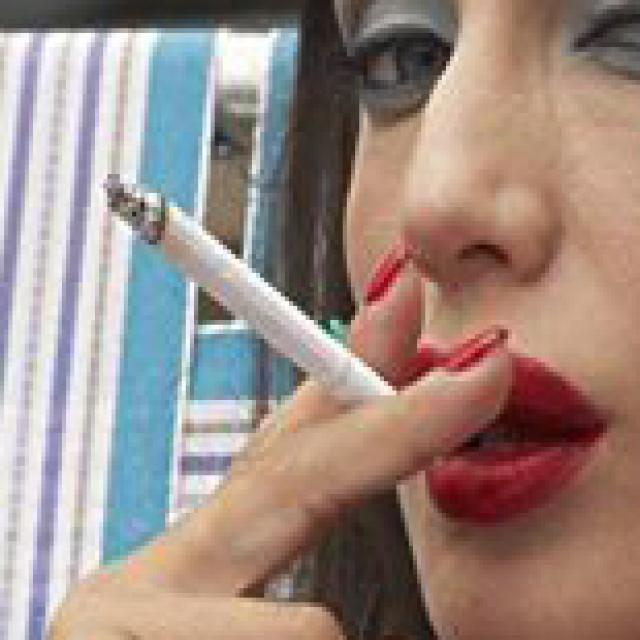smoking: (104, 174, 404, 419)
